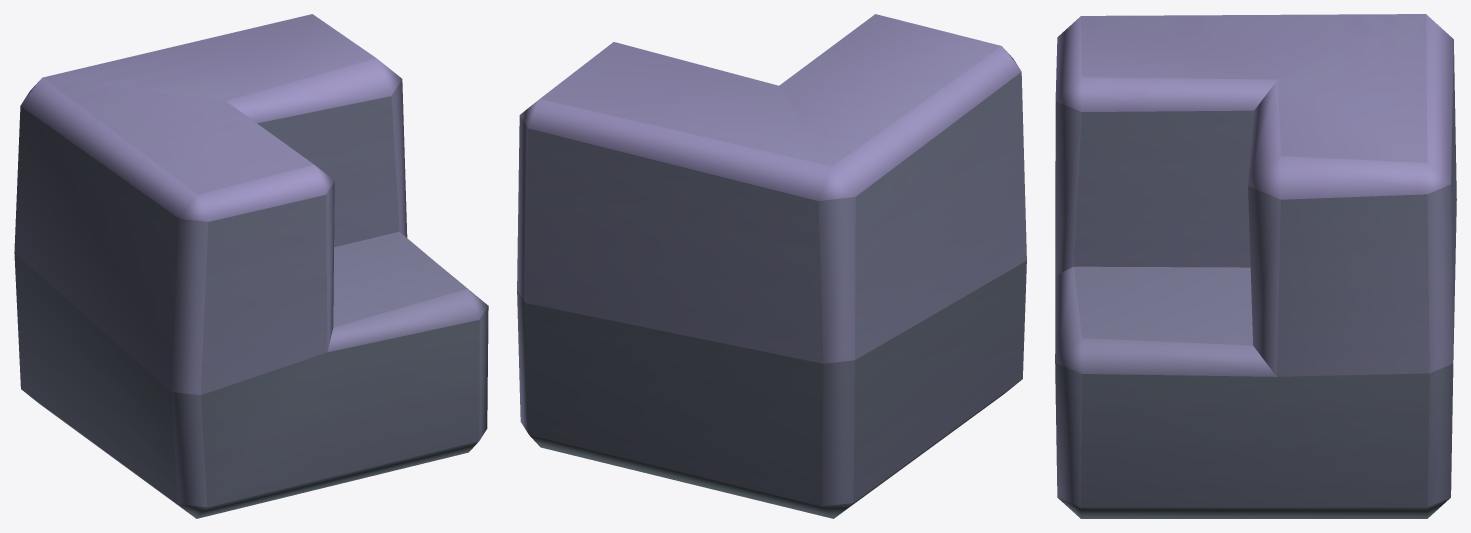
File: undead_stair_corner_conc_shade_1.fbx
3 views of the same model, side by side, from view 1: azimuth 30°, elevation 25°; view 2: azimuth 150°, elevation 25°; view 3: azimuth 270°, elevation 25° (orthographic). The views are drawn at different scales.
Visible parts, largest first — view 1: undead_stair_corner_conc_shade_1; view 2: undead_stair_corner_conc_shade_1; view 3: undead_stair_corner_conc_shade_1.
Part boxes in pixels (box(x1,y1,x2,y2)): undead_stair_corner_conc_shade_1: box(14, 14, 488, 518); undead_stair_corner_conc_shade_1: box(517, 14, 1026, 518); undead_stair_corner_conc_shade_1: box(1055, 14, 1456, 518).
Bounding box in the file's own units: 0.5226 × 0.5074 × 0.5102.
